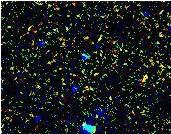star: (129, 64, 159, 94)
